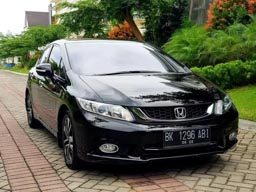plat: (165, 127, 213, 141)
